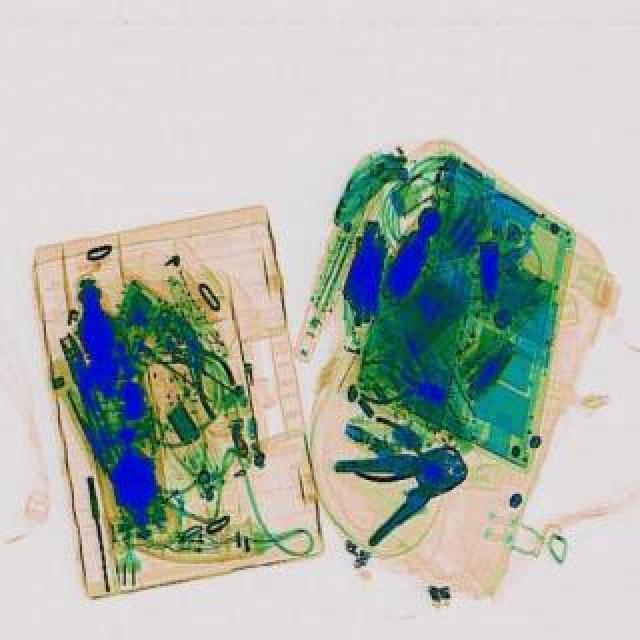wrench: (330, 416, 486, 550), (156, 302, 252, 420), (356, 416, 460, 500), (354, 354, 462, 414)
